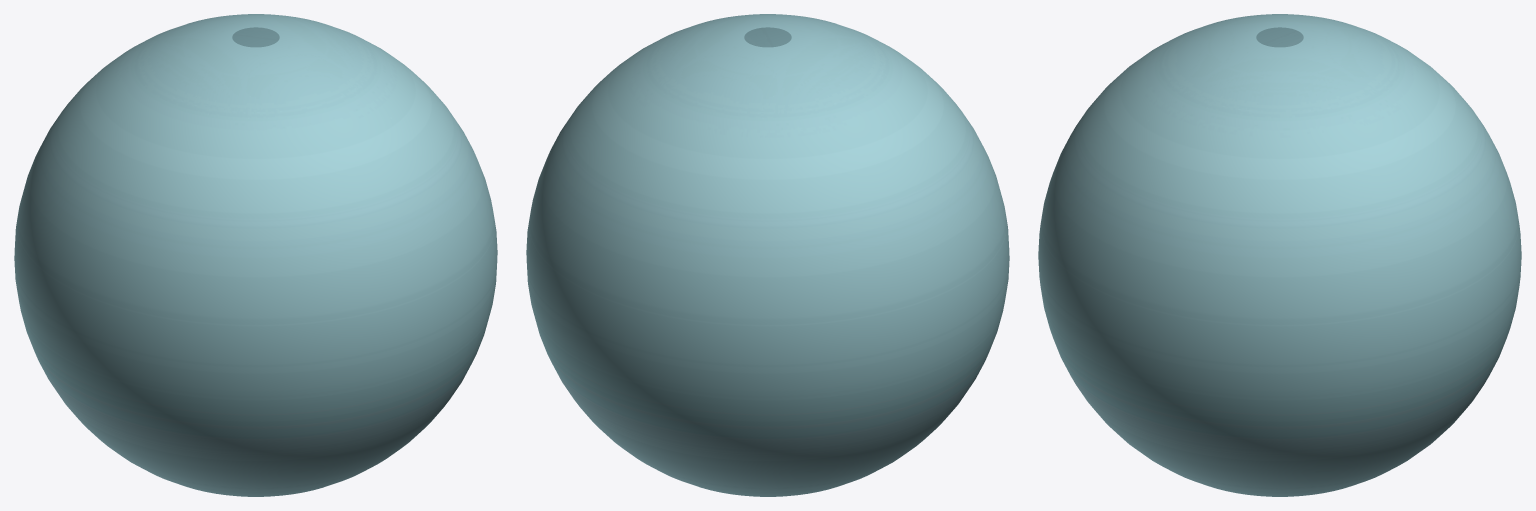
Rendered from UranusSphere.glb.
The picture shows the model from 3 angles, left to right: view 1: azimuth 30°, elevation 25°; view 2: azimuth 150°, elevation 25°; view 3: azimuth 270°, elevation 25°; orthographic projection.
Parts seen in each view (by area): view 1: Uranus(Clone); view 2: Uranus(Clone); view 3: Uranus(Clone).
Boxes of the visible parts, x1,y1,x2,y2 form: Uranus(Clone): (14,14,497,496); Uranus(Clone): (526,14,1009,496); Uranus(Clone): (1038,14,1521,496).
Size of the model in its own units: 2 by 1.99 by 2.
Materials: 1 (1 with a texture image).
